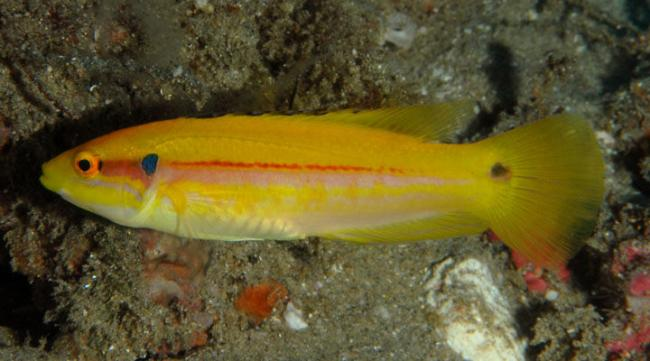fish: (41, 100, 605, 262)
